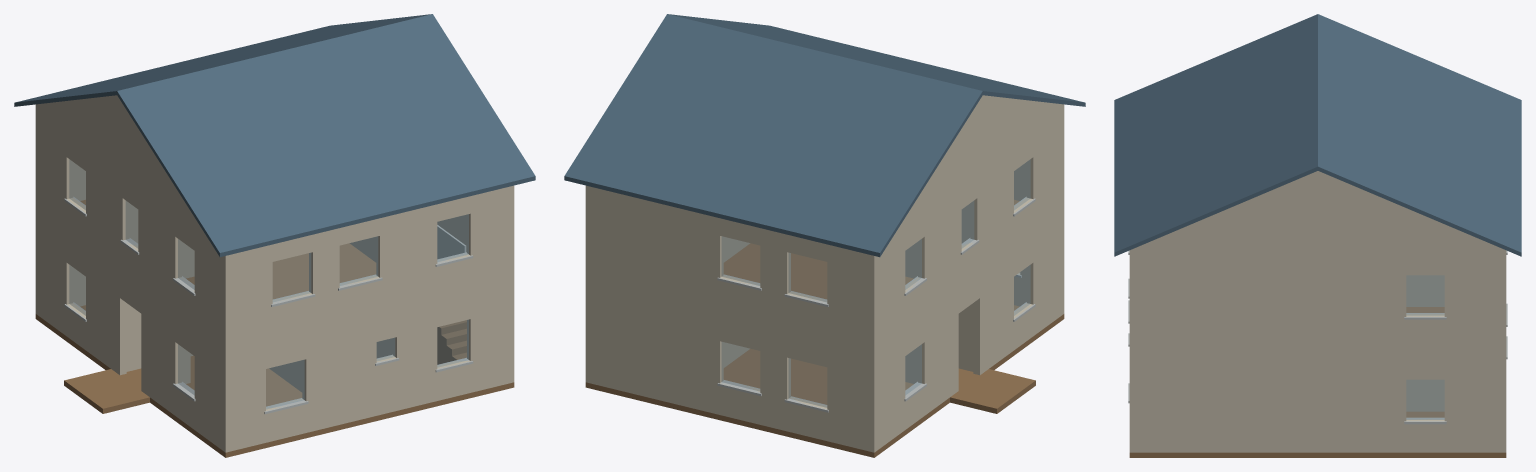
The model's file is house.glb.
3 views of the same model, side by side, from view 1: azimuth 30°, elevation 25°; view 2: azimuth 150°, elevation 25°; view 3: azimuth 270°, elevation 25° (orthographic).
Visible parts, largest first — view 1: Building; view 2: Building; view 3: Building.
Part boxes in pixels (bbox=[...]): Building: bbox=[14, 14, 535, 457]; Building: bbox=[564, 14, 1085, 457]; Building: bbox=[1114, 14, 1521, 457].
Bounding box in the file's own units: 10.4 × 8.55 × 10.6.
